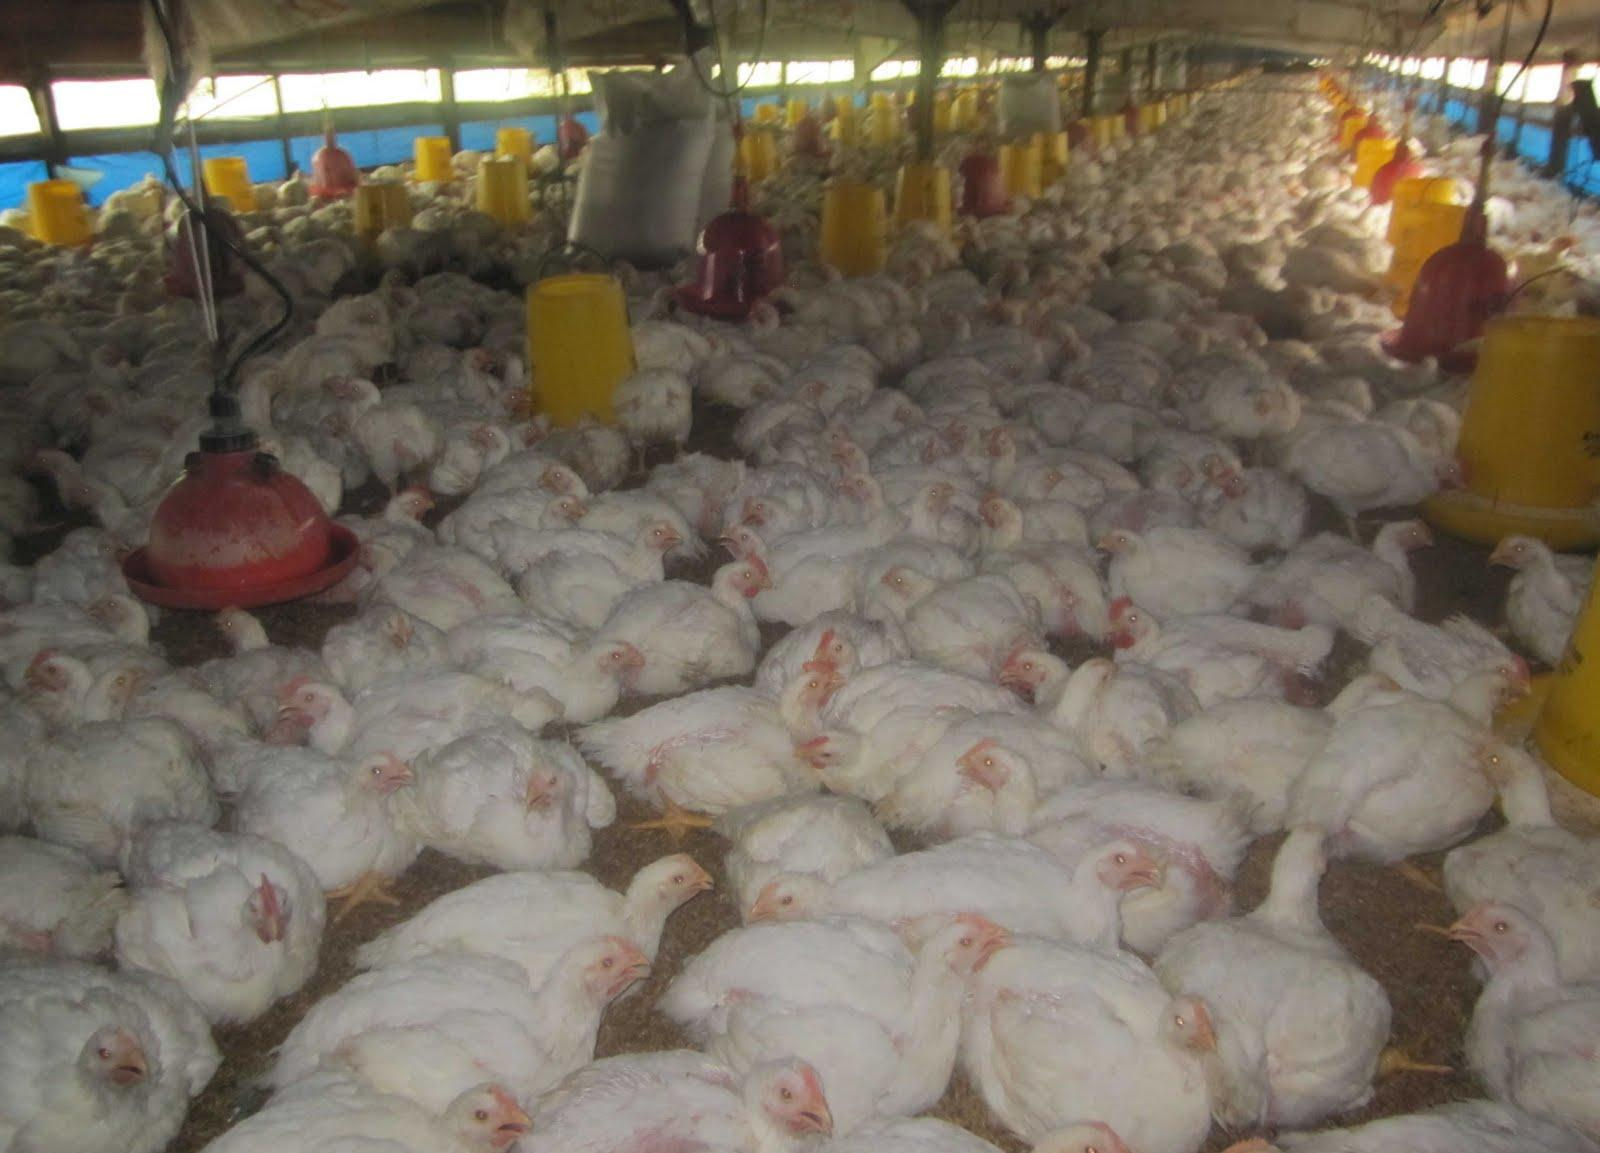chicken: (1178, 827, 1390, 1110), (281, 931, 658, 1076), (680, 909, 1014, 1066), (983, 942, 1216, 1148), (0, 957, 212, 1151), (960, 738, 1248, 878), (122, 826, 325, 1016), (369, 849, 712, 958), (222, 734, 422, 909), (404, 726, 616, 867), (802, 702, 1080, 808), (860, 836, 1164, 924), (614, 550, 778, 690), (275, 670, 555, 744), (450, 610, 639, 717), (1265, 516, 1440, 608)
